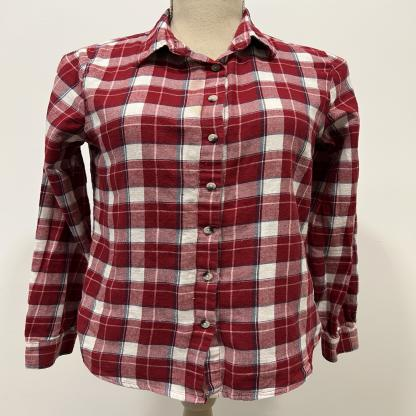stain: (182, 77, 207, 95), (187, 104, 212, 118)
